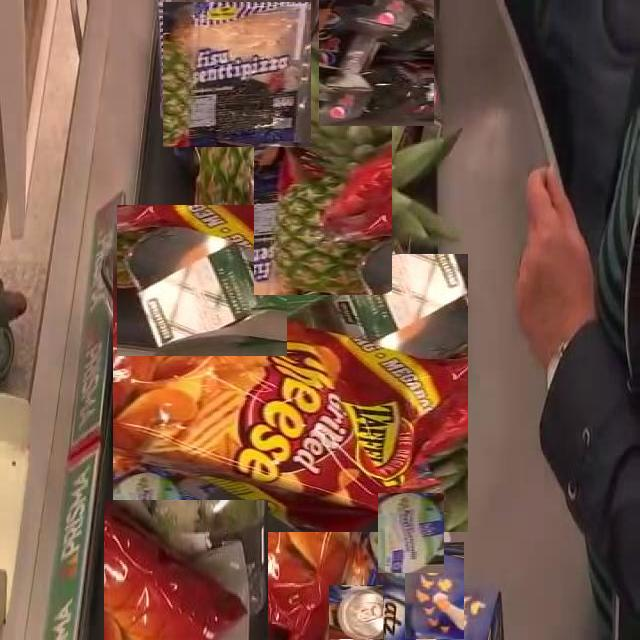beverage: (313, 0, 439, 120), (328, 585, 384, 640)
food-box: (132, 235, 448, 551), (121, 199, 282, 361), (103, 499, 268, 640), (163, 1, 310, 148), (385, 561, 484, 640), (374, 497, 447, 570)
fruit: (225, 70, 421, 266)
